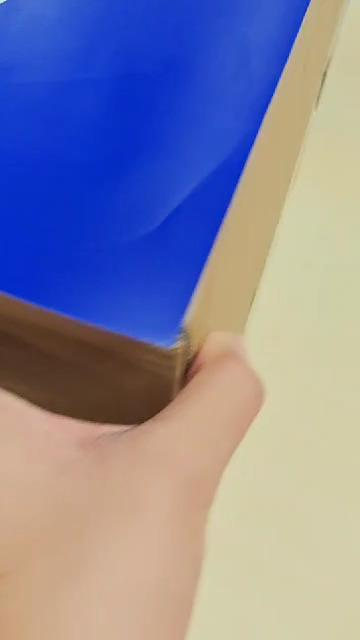B_R1: (0, 0, 204, 143)
